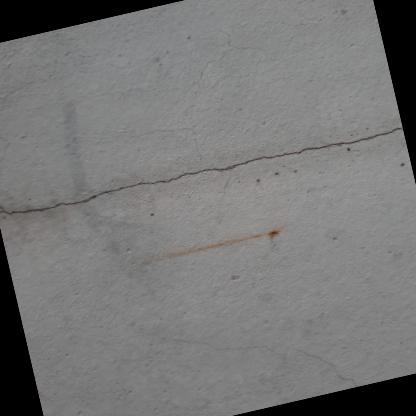crack: (0, 126, 404, 215)
